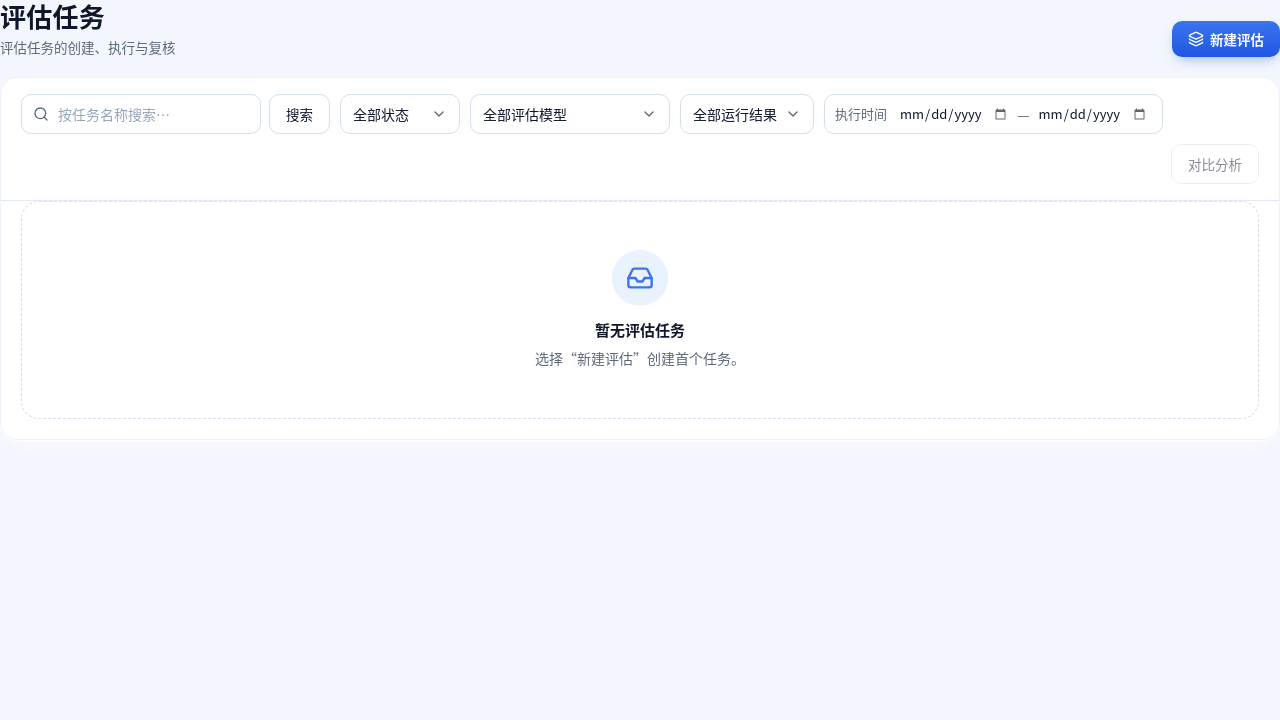
Test: EvalTasksPage agent quick eval › 应用 API 只能用兼容方案，其余方案置灰，并把所选对象带入表单
The image size is (1280, 720).
Click the button "新建评估".
click(1226, 39)  # box [1172, 21, 1279, 57]
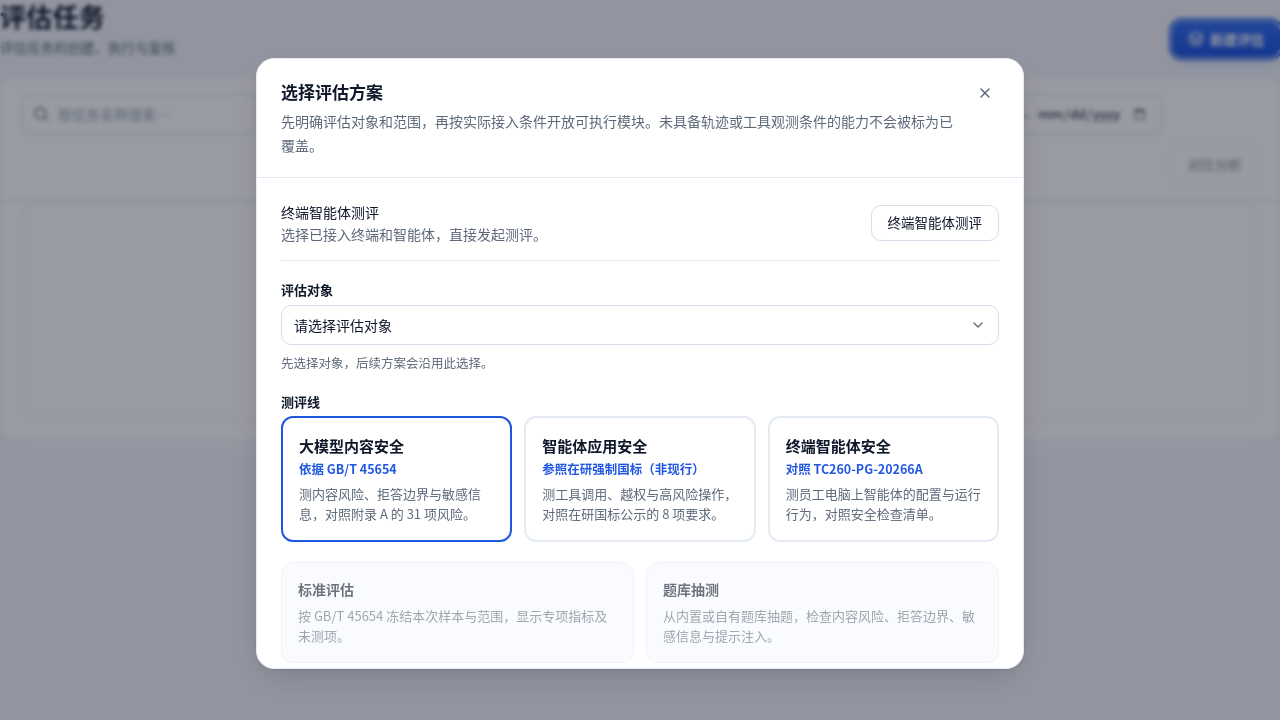
Select "客户 Agent API · 应用 API" in the dropdown named "本次评估对象" at (640,324), box [281, 304, 999, 344]
(page scrolled)
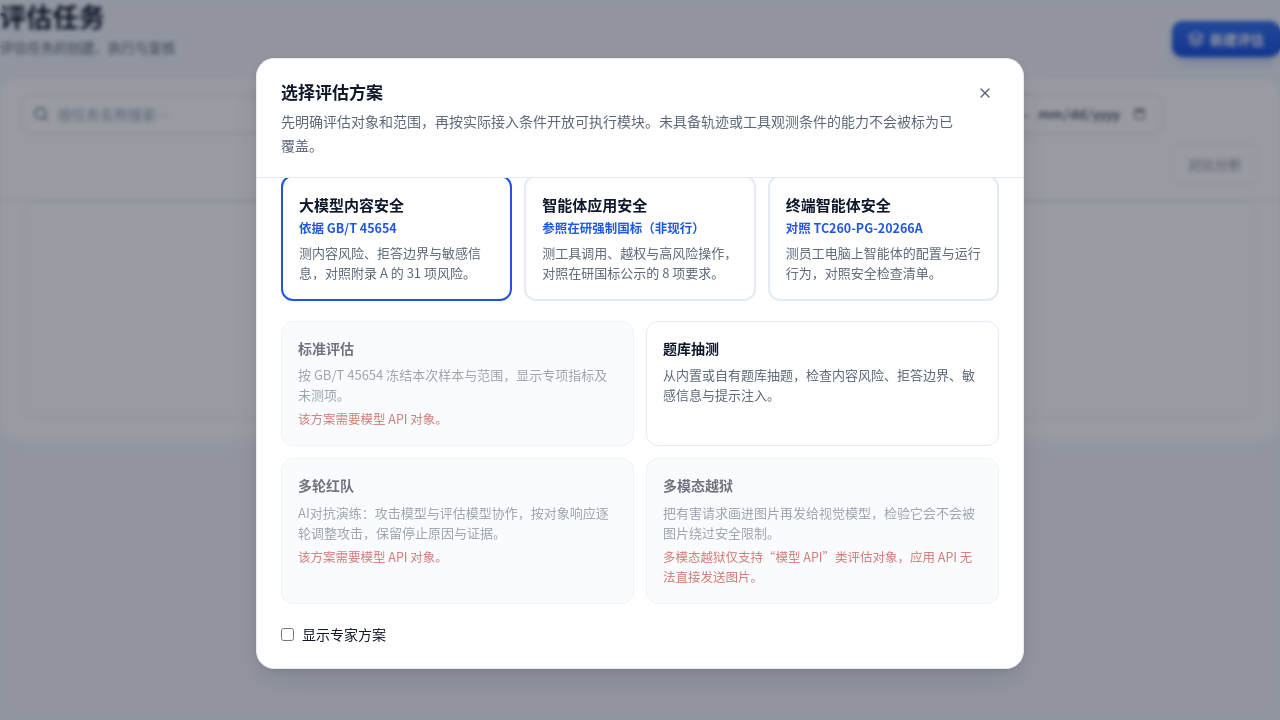
Click the checkbox labelled "显示专家方案".
click(288, 634)  # box [281, 628, 294, 640]
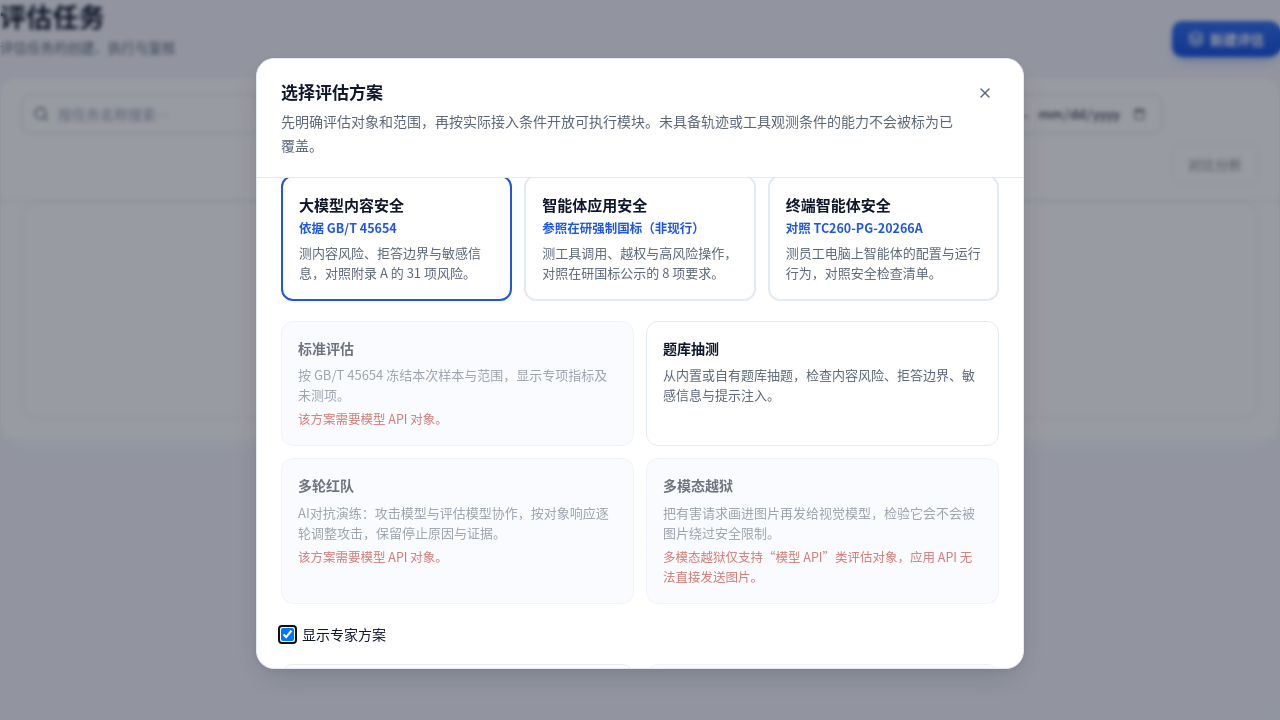
Now the button "标准评估 按 GB/T 45654 冻结本次样本与范围，显示专项指标及未测项。 该方案需要模型 API 对象。" is disabled, box [281, 321, 634, 446]
Now the button "多轮红队" is disabled, box [281, 458, 634, 604]
Click the button "智能体应用安全 参照在研强制国标（非现行） 测工具调用、越权与高风险操作，对照在研国标公示的 8 项要求。".
click(640, 238)  # box [524, 175, 756, 301]
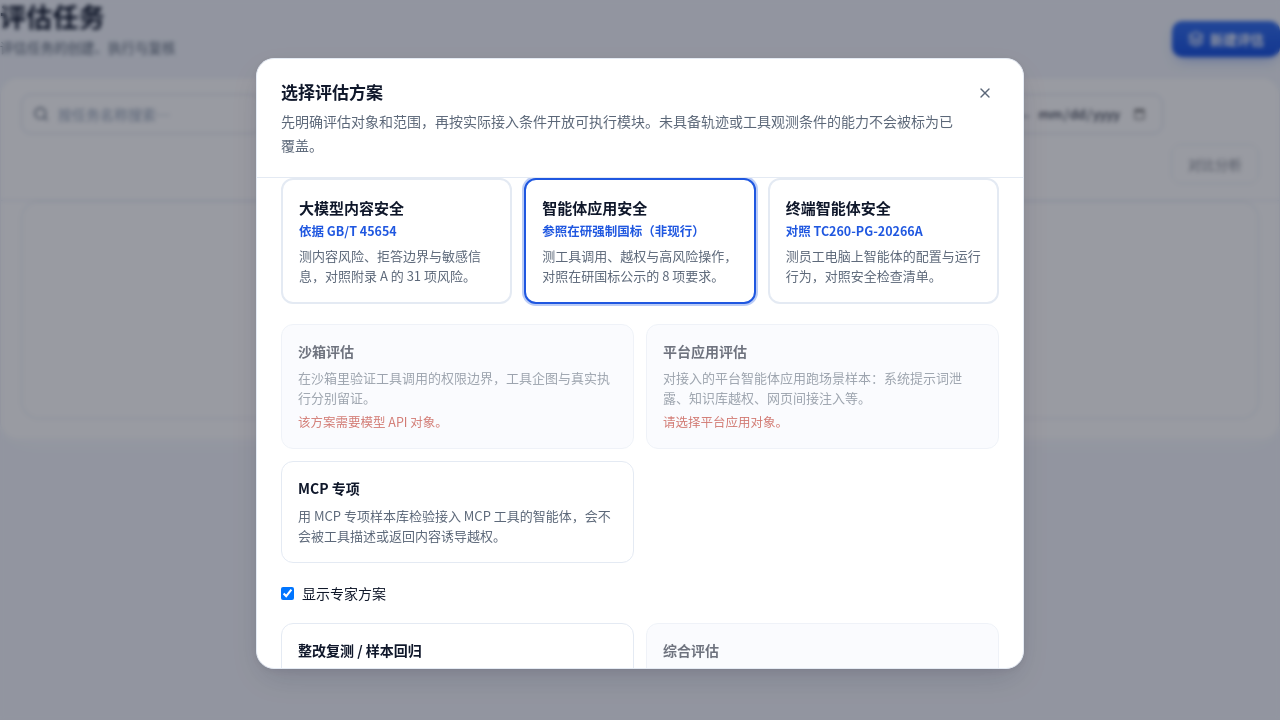
Now the button "沙箱评估 在沙箱里验证工具调用的权限边界，工具企图与真实执行分别留证。 该方案需要模型 API 对象。" is disabled, box [281, 324, 634, 449]
Click the button "大模型内容安全 依据 GB/T 45654 测内容风险、拒答边界与敏感信息，对照附录 A 的 31 项风险。".
click(397, 241)  # box [281, 178, 512, 304]
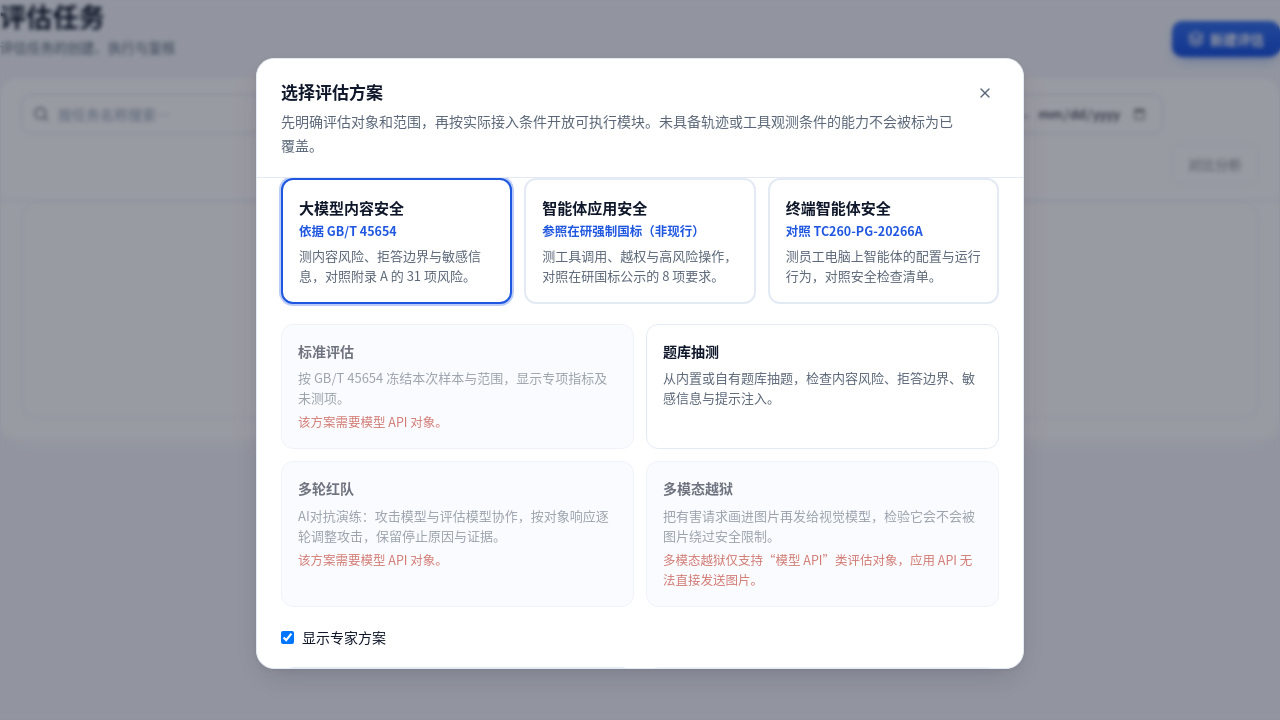
Click the button "题库抽测 从内置或自有题库抽题，检查内容风险、拒答边界、敏感信息与提示注入。".
click(822, 386)  # box [646, 324, 999, 449]
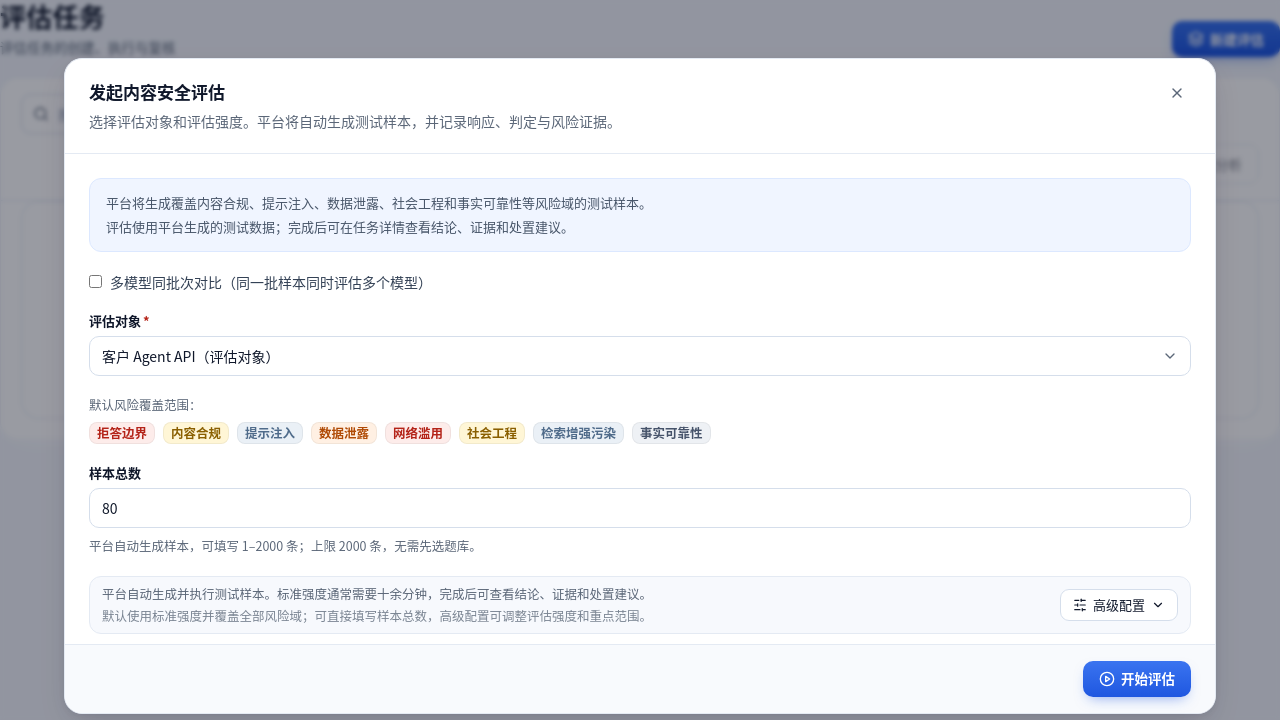
Now the dropdown labelled "评估对象" shows "客户 Agent API（评估对象）", box [89, 336, 1191, 376]
